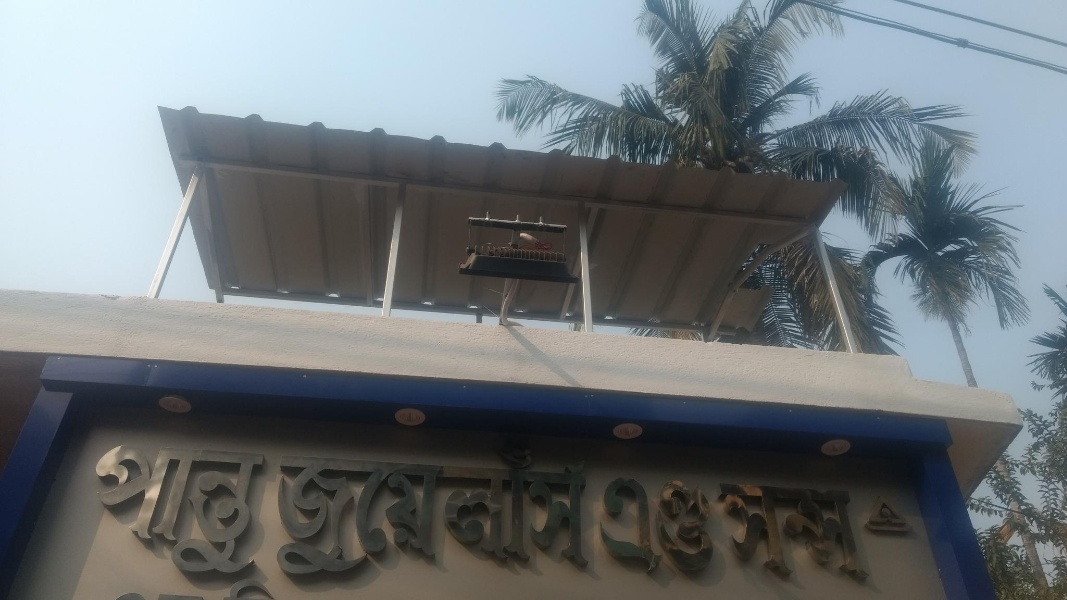text: (289, 444, 304, 594), (305, 444, 320, 594), (321, 444, 336, 594), (337, 444, 352, 594), (353, 444, 368, 594), (369, 444, 384, 594), (385, 444, 400, 594), (401, 444, 416, 594), (417, 444, 432, 594), (433, 444, 448, 594), (449, 444, 464, 594), (465, 444, 480, 594), (481, 444, 496, 594), (497, 444, 512, 594), (513, 444, 528, 594), (529, 444, 544, 594), (545, 444, 560, 594), (561, 444, 576, 594), (577, 444, 592, 594), (113, 436, 128, 585), (129, 436, 144, 585), (145, 436, 160, 585), (161, 436, 176, 585), (177, 436, 192, 585), (193, 436, 208, 585), (209, 436, 224, 585), (225, 436, 240, 585), (241, 436, 256, 585), (98, 436, 112, 585), (257, 436, 270, 585), (609, 474, 624, 587), (625, 474, 640, 587), (641, 474, 656, 587), (657, 474, 672, 587), (673, 474, 688, 587), (689, 474, 704, 587), (705, 474, 720, 587), (721, 480, 736, 585), (737, 480, 752, 585), (753, 480, 768, 585), (769, 480, 784, 585), (785, 480, 800, 585), (801, 480, 816, 585), (817, 480, 832, 585), (833, 480, 848, 585), (849, 480, 864, 585), (593, 444, 603, 594), (279, 444, 288, 594), (721, 474, 731, 587), (712, 480, 720, 585), (865, 480, 871, 585), (113, 578, 128, 600), (129, 578, 144, 600), (145, 578, 160, 600), (161, 578, 176, 600), (177, 578, 192, 600), (193, 578, 208, 600), (209, 578, 224, 600), (225, 578, 240, 600), (241, 578, 256, 600), (257, 578, 272, 600), (273, 578, 281, 600), (106, 578, 112, 600)
